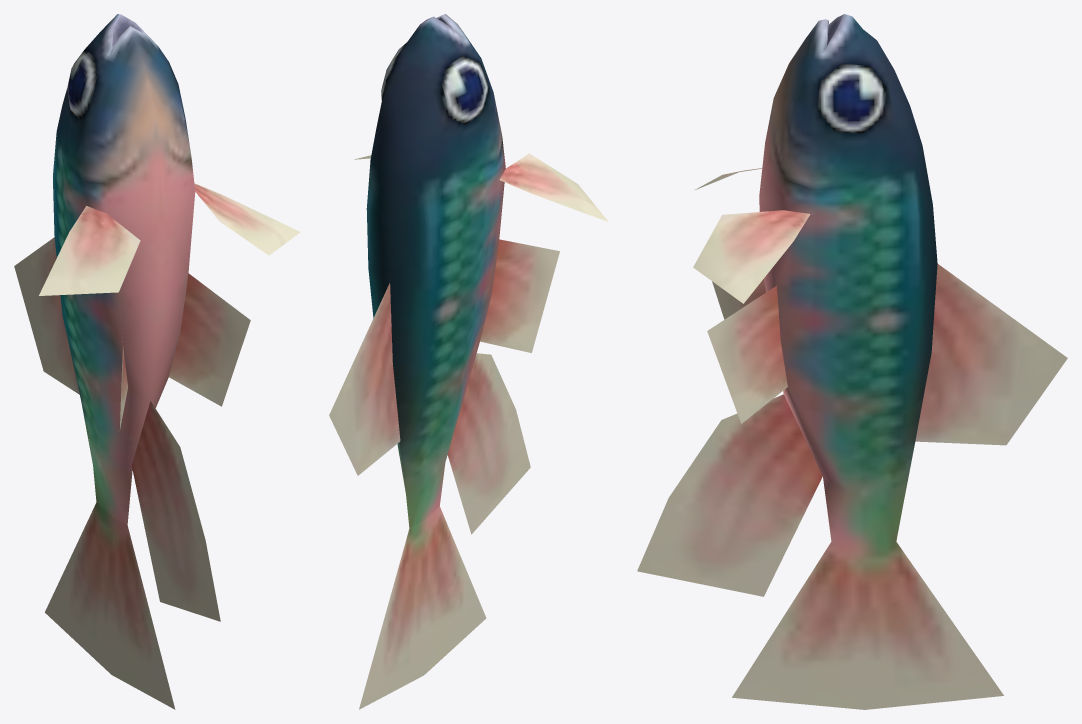
Rendered from pale-chub.glb.
3 renders of one model, left to right at view 1: azimuth 30°, elevation 25°; view 2: azimuth 150°, elevation 25°; view 3: azimuth 270°, elevation 25°, orthographic. The views are drawn at different scales.
Visible parts, largest first — view 1: FishOikawa_node6; view 2: FishOikawa_node6; view 3: FishOikawa_node6.
Boxes of the visible parts, x1,y1,x2,y2 form: FishOikawa_node6: (14, 14, 300, 709); FishOikawa_node6: (329, 14, 608, 709); FishOikawa_node6: (637, 14, 1067, 709).
Size of the model in its own units: 1.27 by 3.09 by 1.73.
1 material, 1 textured.
